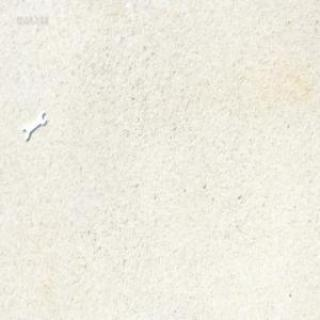Wrenchtrack_idkeyframe: (22, 105, 47, 139)
